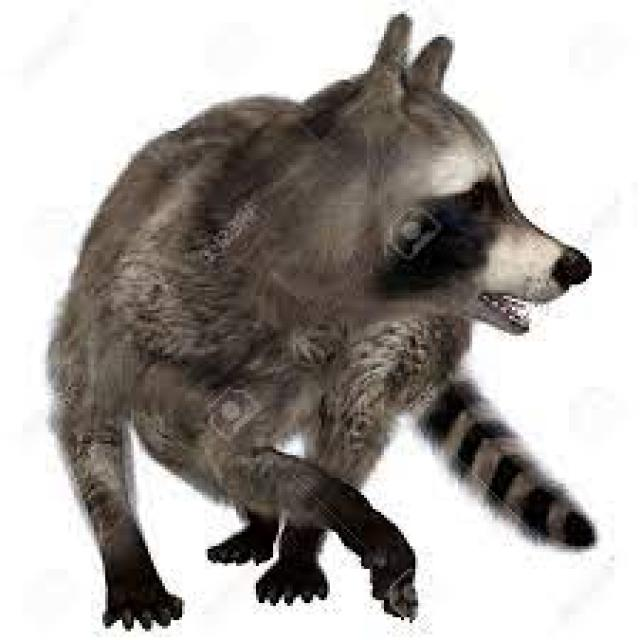raccoon: (45, 14, 606, 628)
